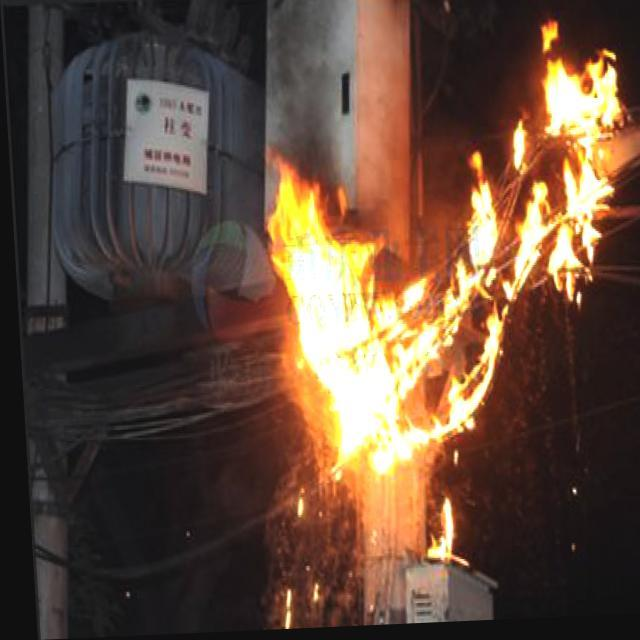Fire: (244, 5, 636, 474)
